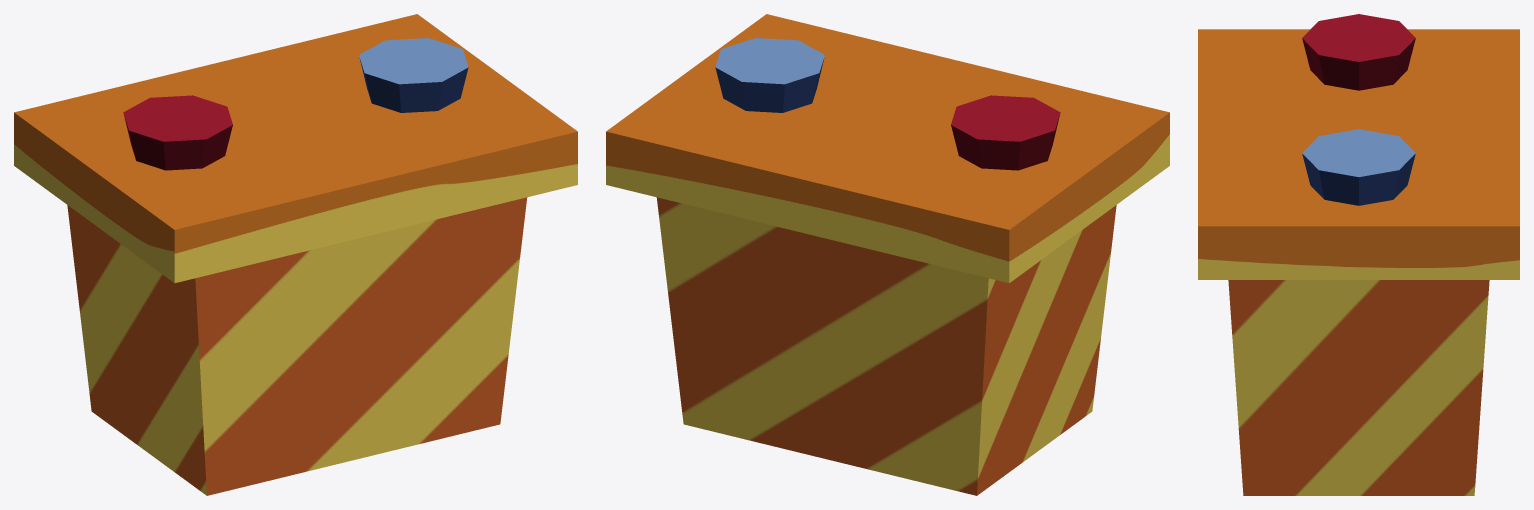
File: PRMC_Bateria.FBX
3 views of the same model, side by side, from view 1: azimuth 30°, elevation 25°; view 2: azimuth 150°, elevation 25°; view 3: azimuth 270°, elevation 25° (orthographic).
Visible parts, largest first — view 1: PRMC_Bateria; view 2: PRMC_Bateria; view 3: PRMC_Bateria.
Part boxes in pixels (box(x1,y1,x2,y2)): PRMC_Bateria: box(14, 14, 577, 495); PRMC_Bateria: box(606, 14, 1169, 495); PRMC_Bateria: box(1198, 14, 1519, 495).
Bounding box in the file's own units: 1.18 × 0.9184 × 0.8149.
